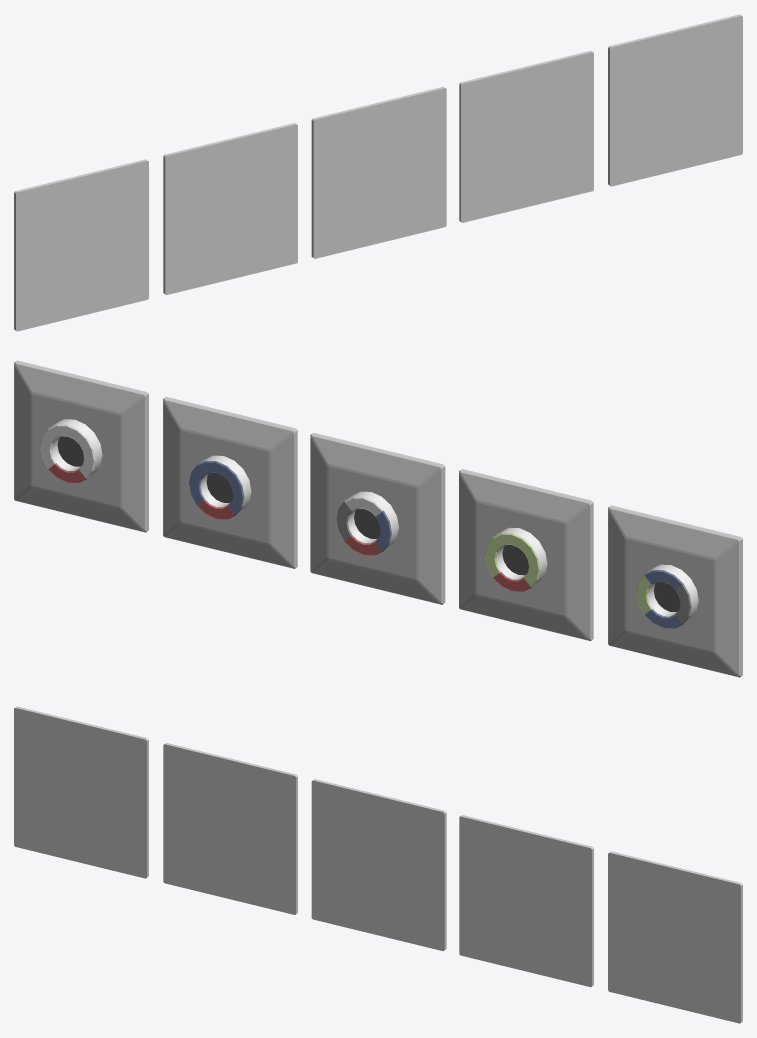
Rendered from gasPorts.fbx.
3 views of the same model, one above another, from view 1: azimuth 30°, elevation 25°; view 2: azimuth 150°, elevation 25°; view 3: azimuth 330°, elevation 25° (orthographic).
Parts seen in each view (by area): view 1: wallUnit.005; view 2: wallUnit.005; view 3: wallUnit.005.
Boxes of the visible parts, x1,y1,x2,y2 form: wallUnit.005: [14, 14, 742, 331]; wallUnit.005: [14, 360, 742, 677]; wallUnit.005: [14, 706, 742, 1023].
Size of the model in its own units: 65.65 by 12 by 2.23.
